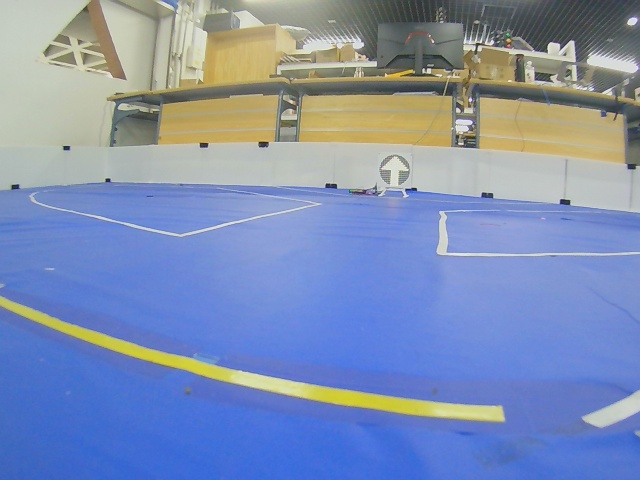straight_yellow: (378, 151, 414, 189)
